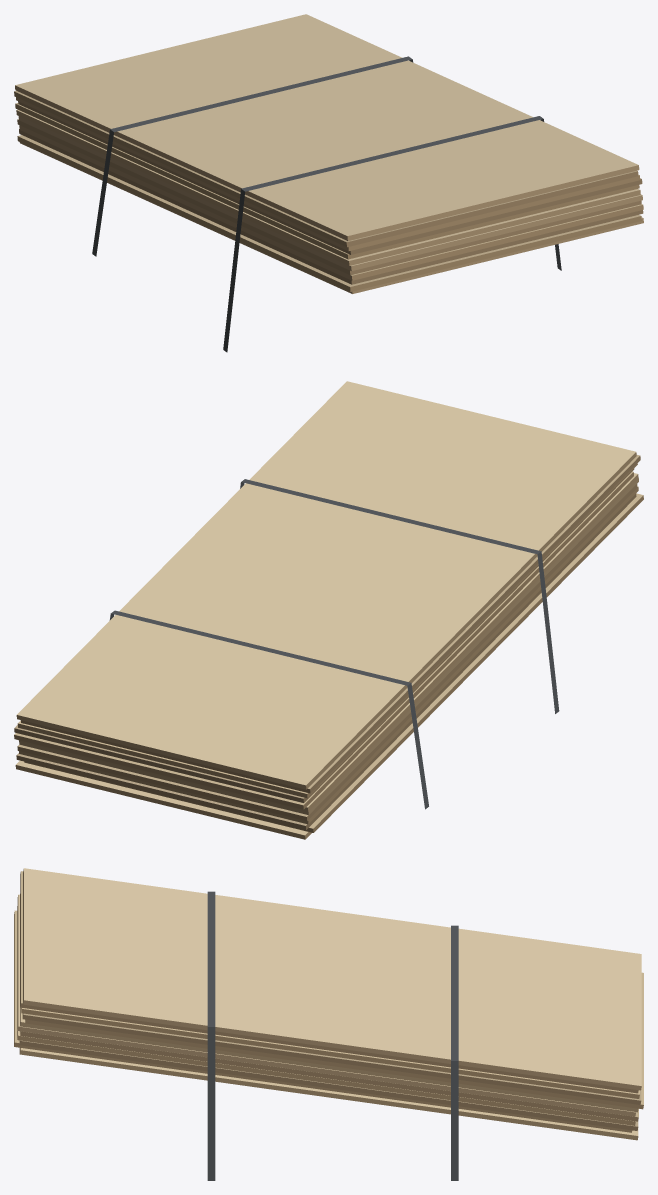
The model's file is plywood-sheets.glb.
3 views of the same model, one above another, from view 1: azimuth 30°, elevation 25°; view 2: azimuth 150°, elevation 25°; view 3: azimuth 270°, elevation 25° (orthographic). The views are drawn at different scales.
Visible parts, largest first — view 1: PlywoodSheets_PlyFace, PlywoodSheets_PlyEdge, PlywoodSheets_Strap; view 2: PlywoodSheets_PlyFace, PlywoodSheets_PlyEdge, PlywoodSheets_Strap; view 3: PlywoodSheets_PlyFace, PlywoodSheets_PlyEdge, PlywoodSheets_Strap.
Part boxes in pixels (x1,y1,x2,y2): PlywoodSheets_PlyFace: [14, 14, 642, 286]; PlywoodSheets_PlyEdge: [14, 85, 643, 293]; PlywoodSheets_Strap: [92, 56, 561, 352]; PlywoodSheets_PlyFace: [14, 381, 643, 835]; PlywoodSheets_PlyEdge: [14, 452, 643, 839]; PlywoodSheets_Strap: [109, 479, 559, 809]; PlywoodSheets_PlyFace: [14, 868, 643, 1135]; PlywoodSheets_PlyEdge: [14, 869, 643, 1140]; PlywoodSheets_Strap: [207, 891, 458, 1180].
Size of the model in its own units: 1.4 by 0.7353 by 2.46.
